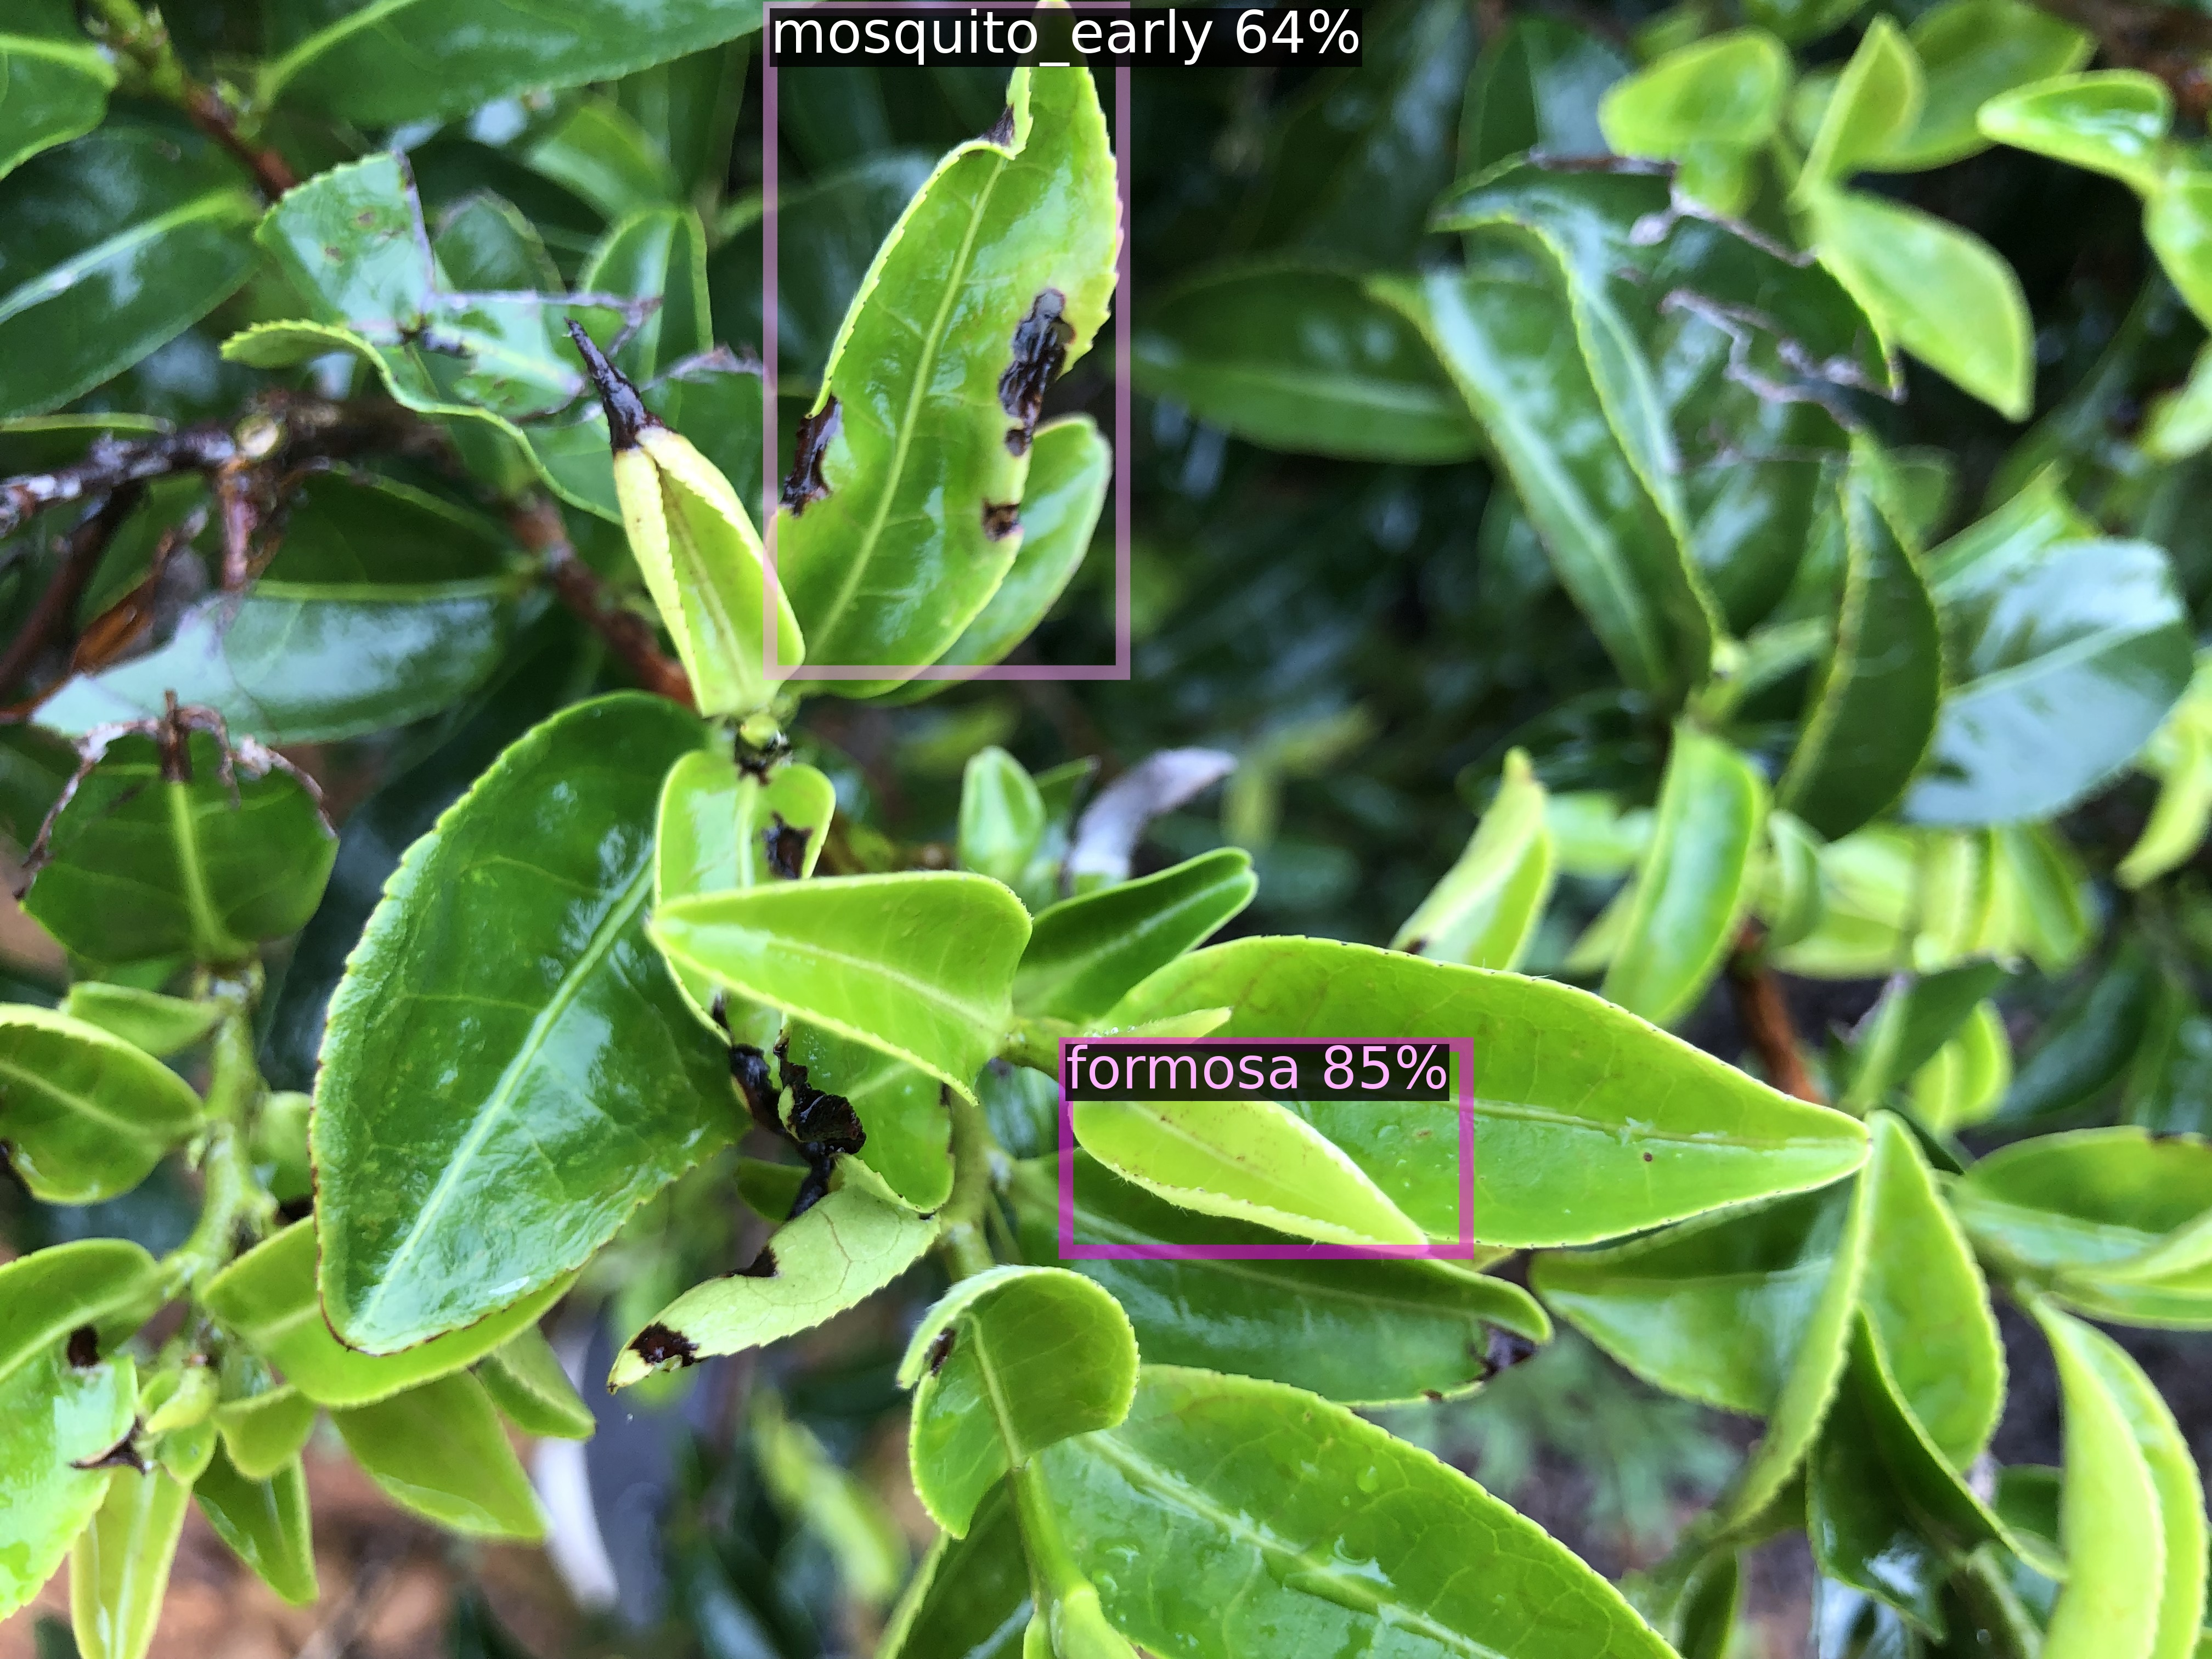formosa: (1066, 1044, 1467, 1251)
mosquito_early: (770, 9, 1123, 673)
